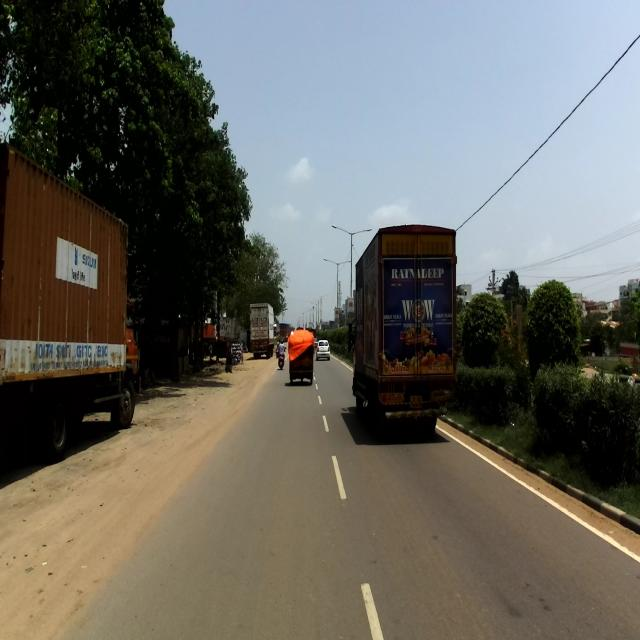truck: (0, 138, 140, 461), (347, 223, 453, 438)
